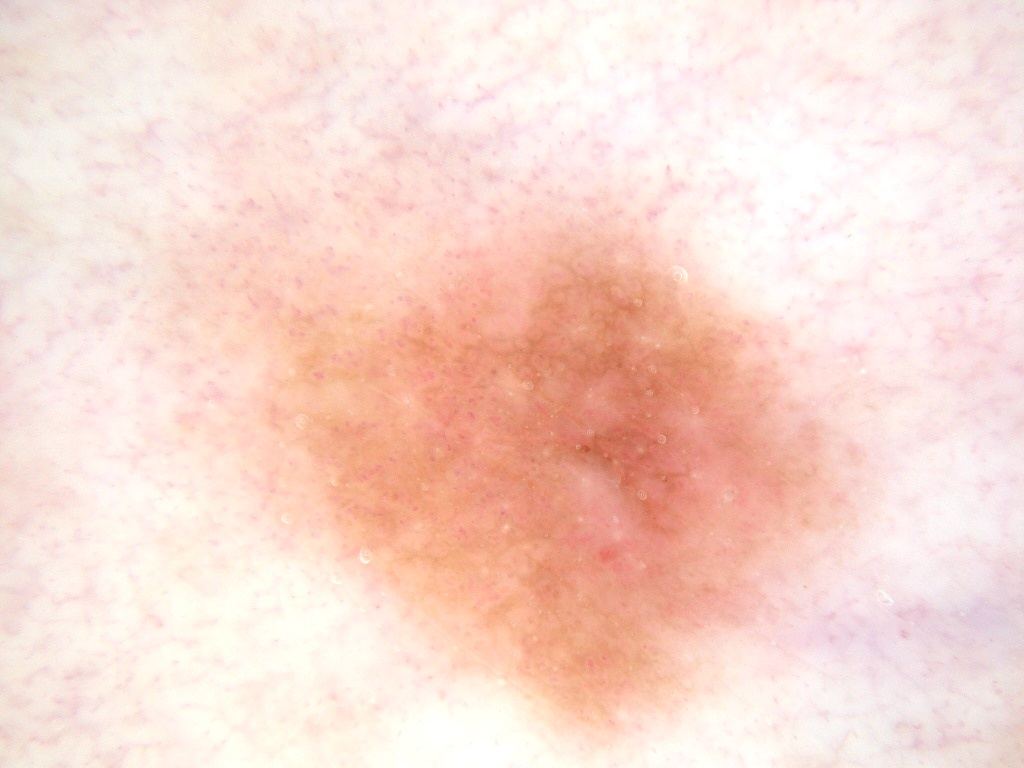Detected Lesion: (260, 245, 862, 730)
